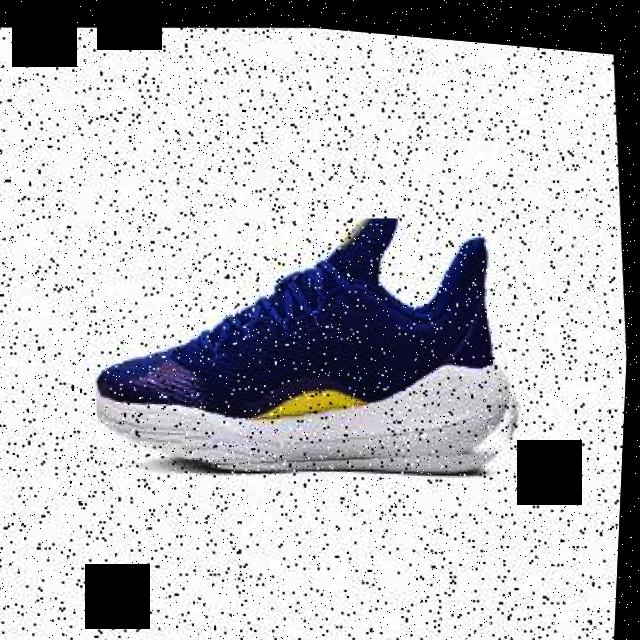shoe: (81, 179, 533, 498)
